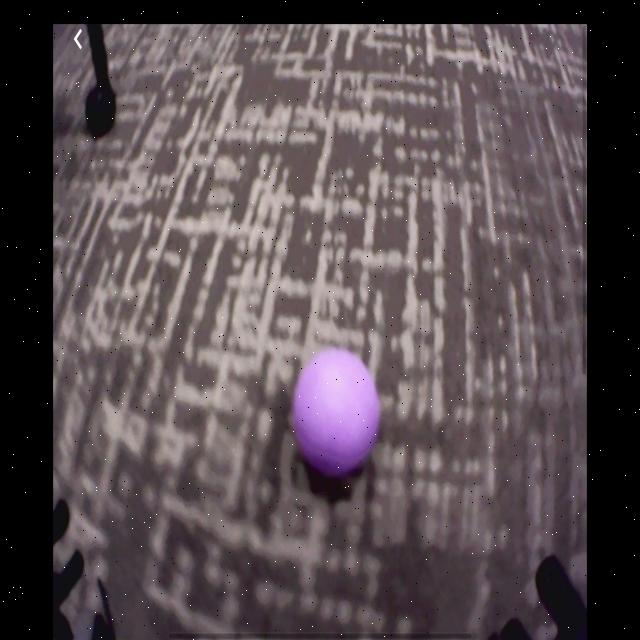ball: (290, 349, 384, 477)
